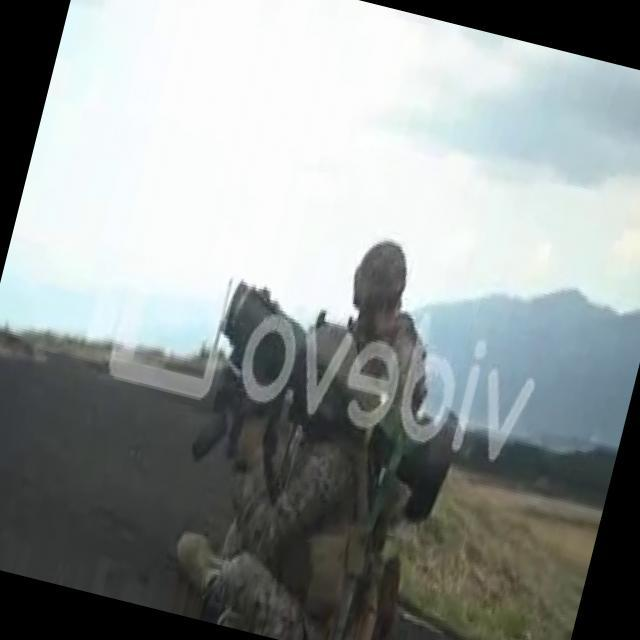rocket: (193, 284, 480, 530)
